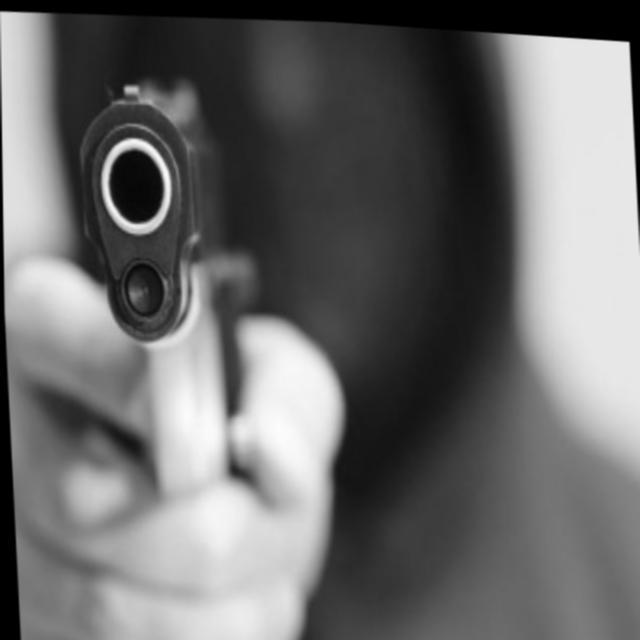weapon: (69, 66, 270, 508)
